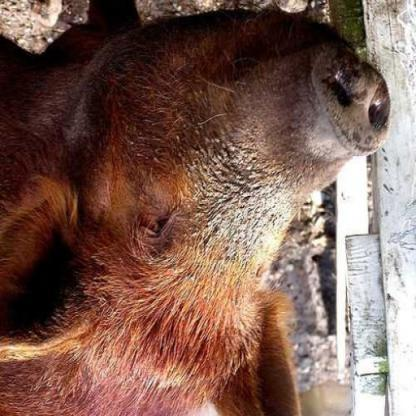boar: (12, 1, 384, 416)
